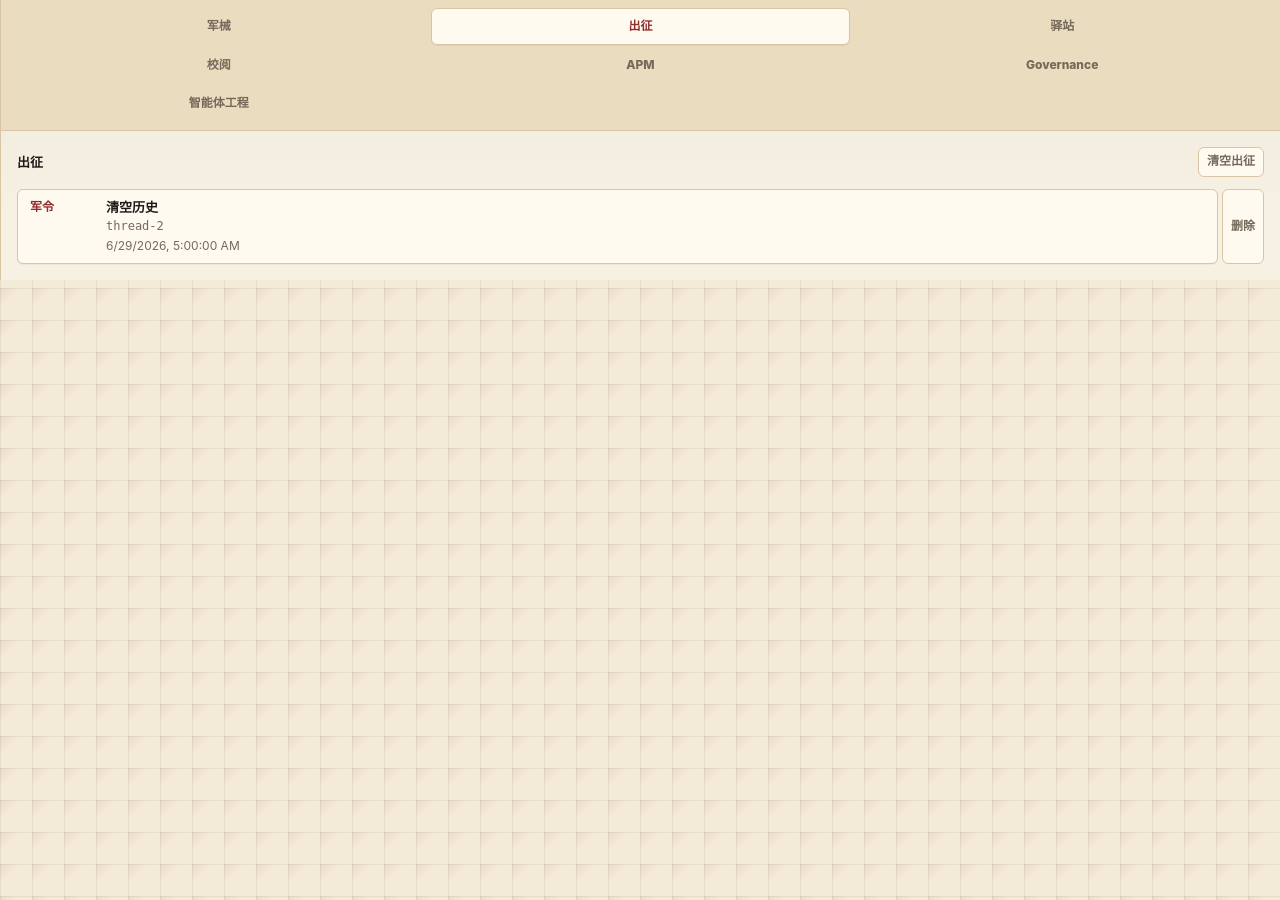
Sidebar › clears all conversations from history and starts a new thread
This screenshot has width=1280, height=900.
Step 1. Click the tab "出征" → (641, 26), box [431, 8, 850, 45]
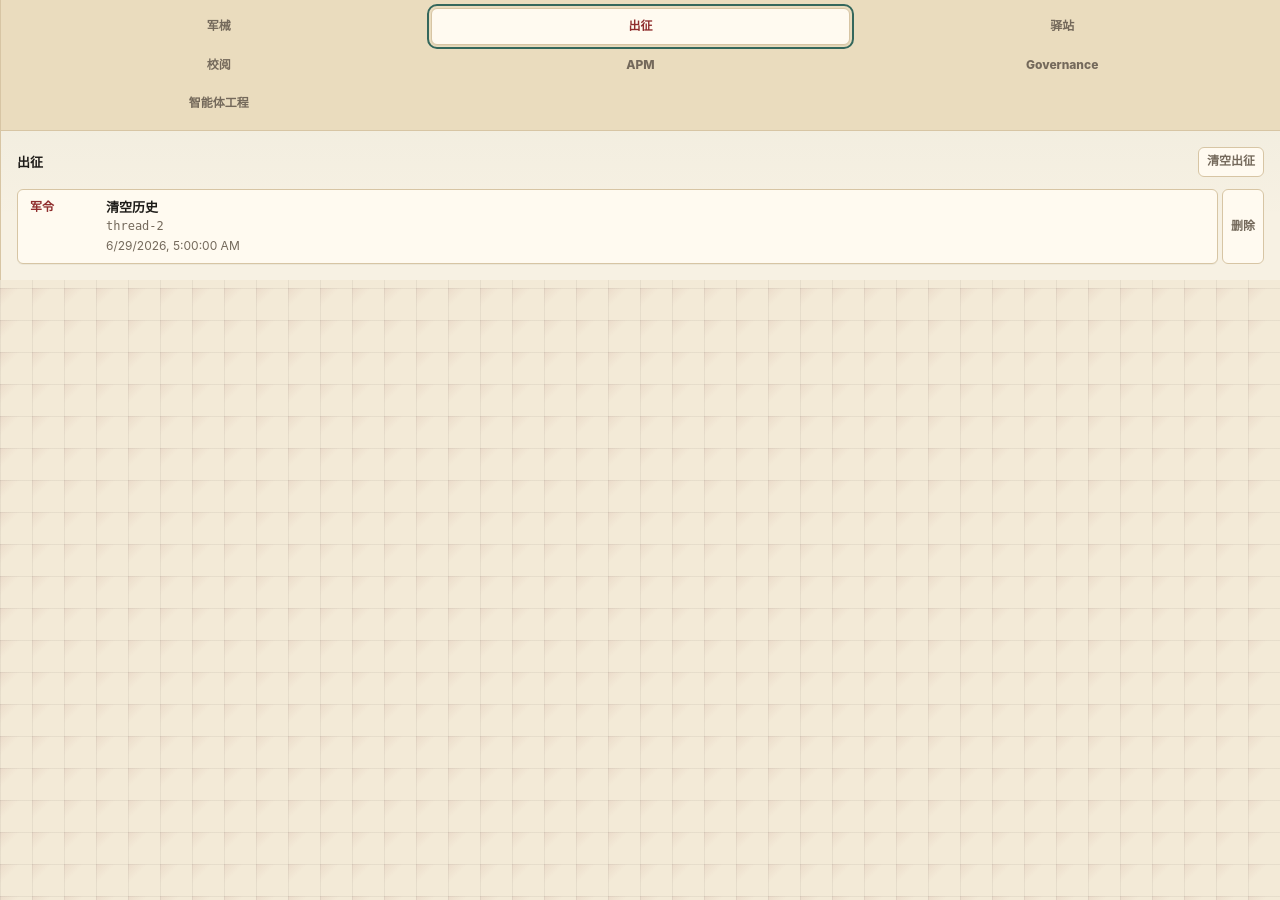
Step 2. Click the button "清空出征" → (1231, 162), box [1198, 147, 1264, 177]
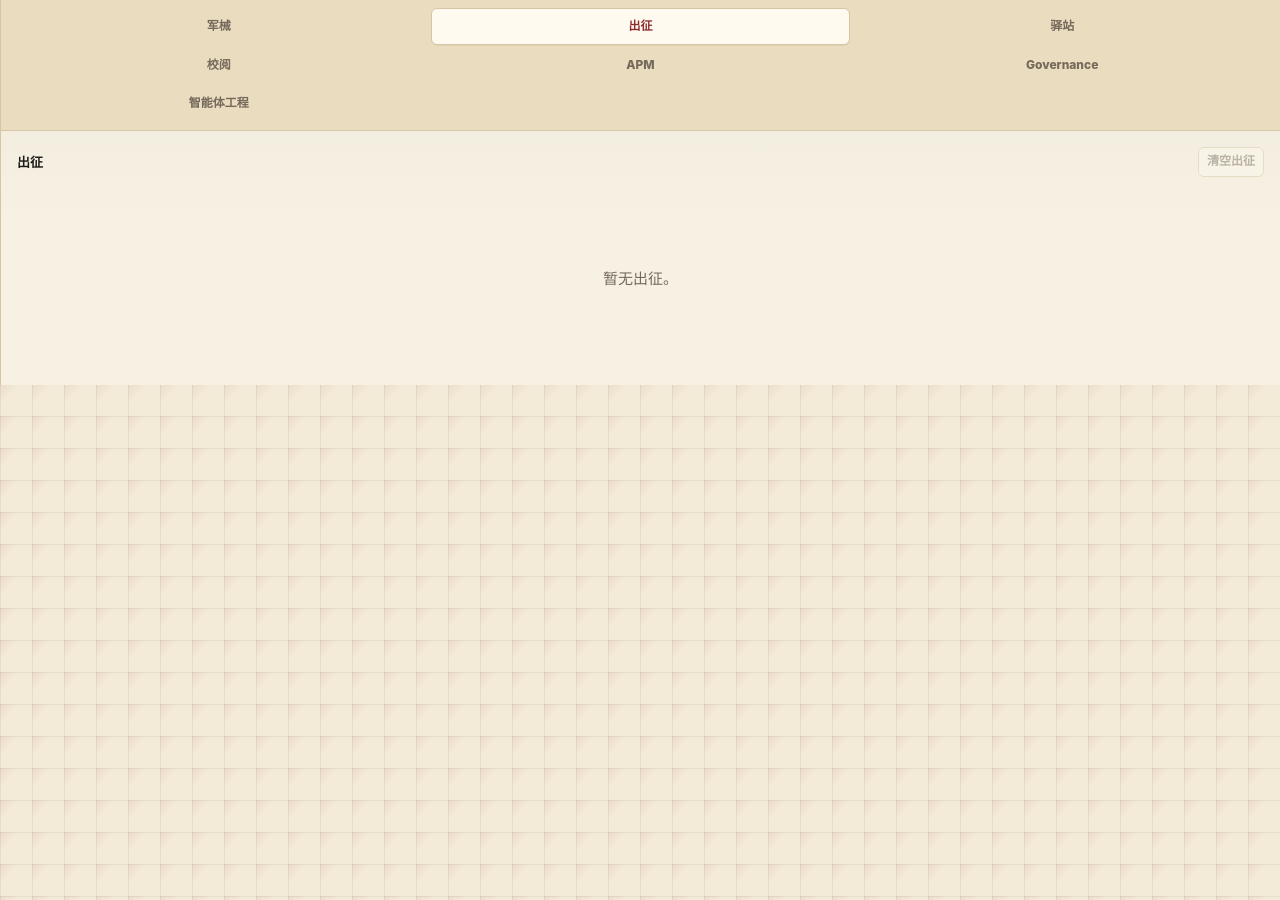
Expected: the text "暂无出征。" is shown, [603, 269, 678, 288]
